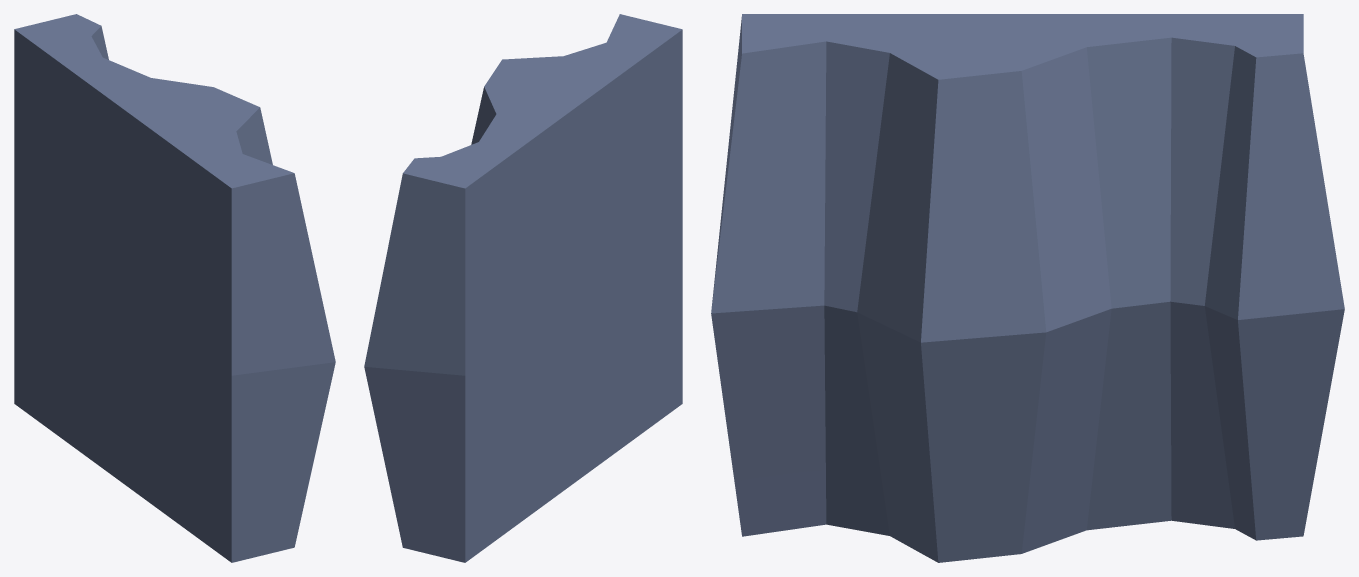
Rendered from floor-030.glb.
The picture shows the model from 3 angles, left to right: view 1: azimuth 30°, elevation 25°; view 2: azimuth 150°, elevation 25°; view 3: azimuth 270°, elevation 25°; orthographic projection. The views are drawn at different scales.
Parts seen in each view (by area): view 1: floor.030; view 2: floor.030; view 3: floor.030.
Part boxes in pixels (x1=…): floor.030: x1=14, y1=14, x2=335, y2=562; floor.030: x1=364, y1=14, x2=682, y2=562; floor.030: x1=711, y1=14, x2=1344, y2=562.
Size of the model in its own units: 0.6505 by 1.68 by 2.
